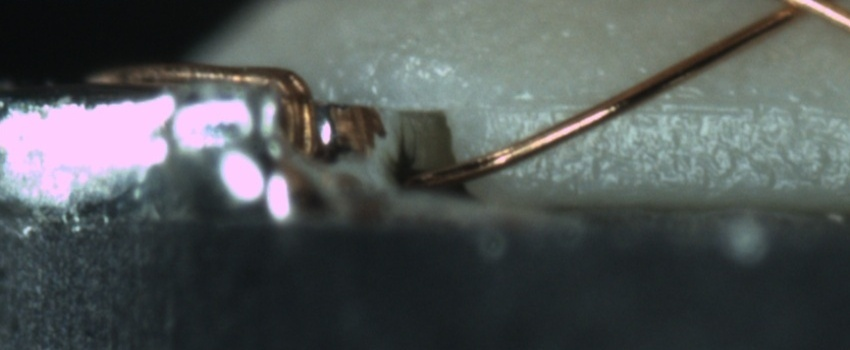CL: (764, 0, 847, 30)
DL: (491, 74, 849, 139)
TE: (85, 59, 318, 157)
